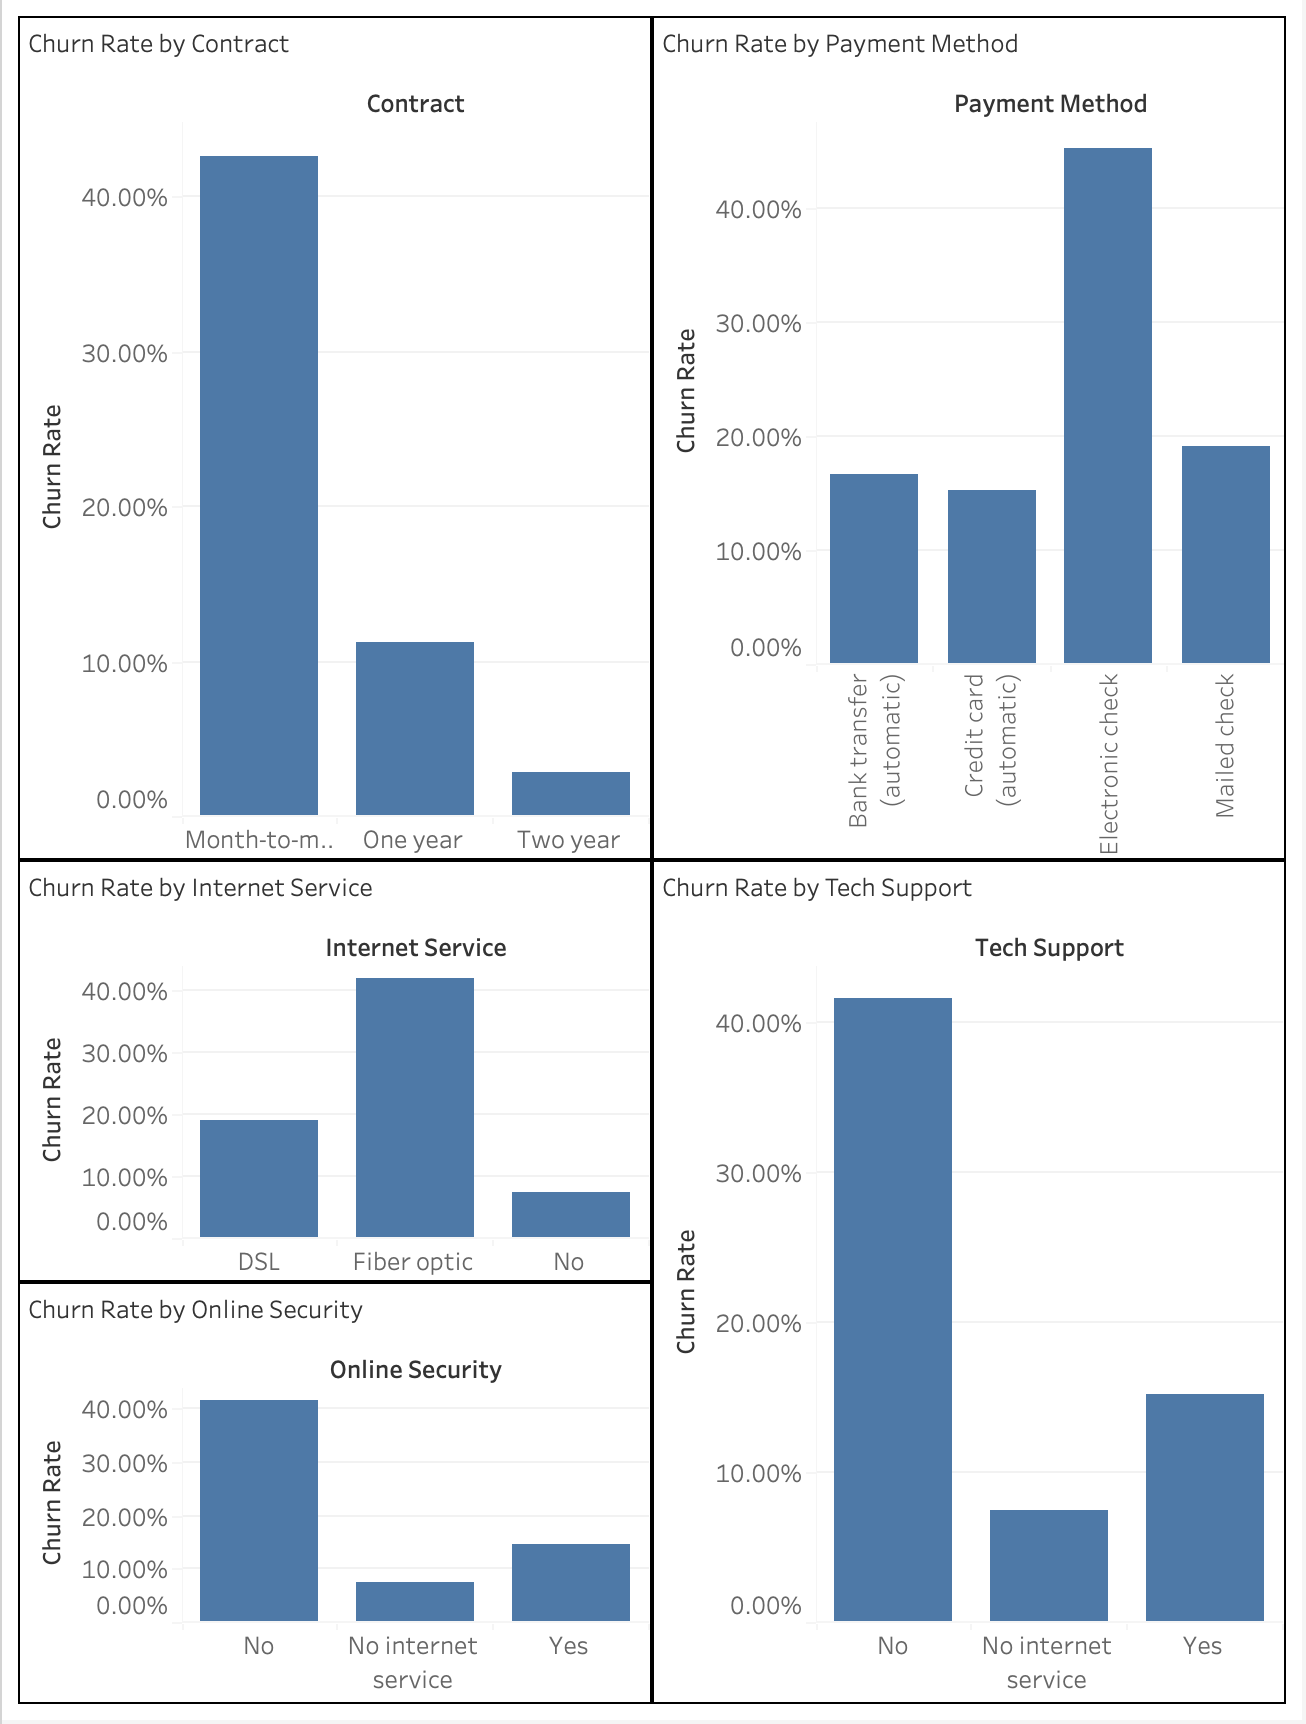

The dashboard page shown, as its layout file describes it:
{"tool":"tableau","page":{"name":"Dashboard 2","canvas":[650,860],"ordinal":1},"visuals":[{"type":"worksheet","title":"Sheet 10","mark":"Automatic","rows":["Calculation1"],"cols":["Contract"],"box":[8,8.7,317,421.3]},{"type":"worksheet","title":"Sheet 11","mark":"Automatic","rows":["Calculation1"],"cols":["PaymentMethod"],"box":[325,8.7,317,421.3]},{"type":"worksheet","title":"Sheet 12","mark":"Automatic","rows":["Calculation1"],"cols":["InternetService"],"box":[8,430,317,210.6]},{"type":"worksheet","title":"Sheet 13","mark":"Automatic","rows":["Calculation1"],"cols":["TechSupport"],"box":[325,430,317,421.3]},{"type":"worksheet","title":"Sheet 13 (2)","mark":"Automatic","rows":["Calculation1"],"cols":["OnlineSecurity"],"box":[8,640.6,317,210.7]}]}

Visuals, with their boxes in screenshot pixels (x1, y1, x2, y2), scaled from the page's 650x860 canvas onto the 1306x1724 screenshot:
"Sheet 10" worksheet: [x1=16, y1=17, x2=653, y2=862]
"Sheet 11" worksheet: [x1=653, y1=17, x2=1290, y2=862]
"Sheet 12" worksheet: [x1=16, y1=862, x2=653, y2=1284]
"Sheet 13" worksheet: [x1=653, y1=862, x2=1290, y2=1707]
"Sheet 13 (2)" worksheet: [x1=16, y1=1284, x2=653, y2=1707]
